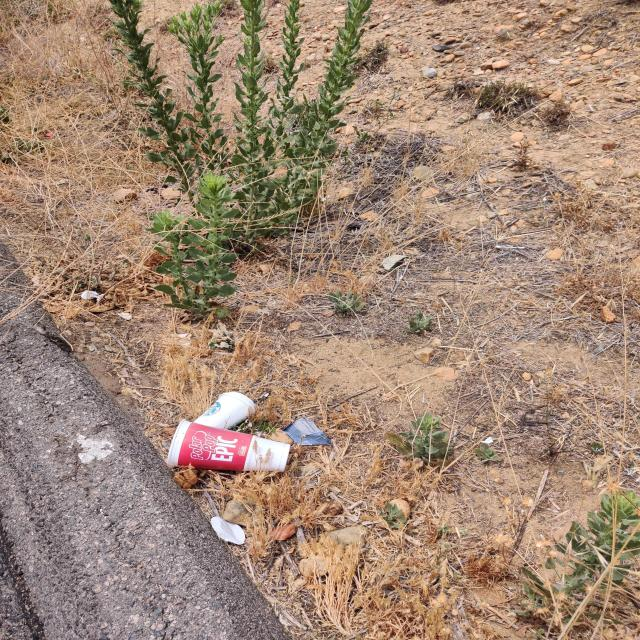litter: (169, 393, 331, 472)
